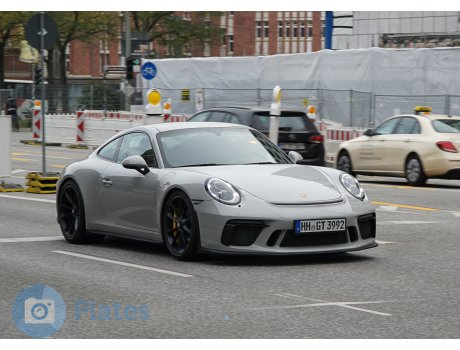License Plates: (305, 217, 347, 228)
